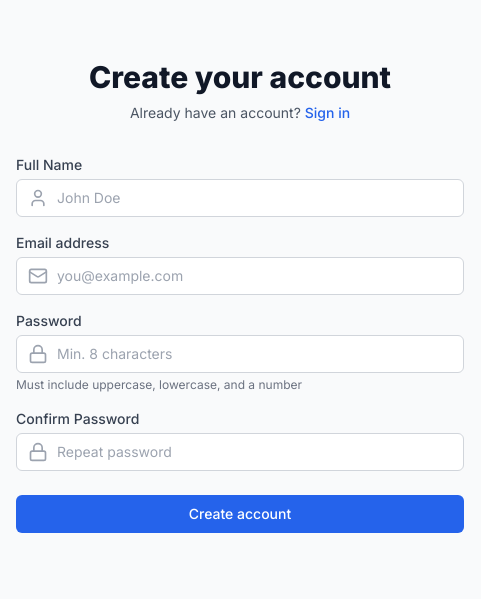
Test: RegisterPage › Password validation › clears validation error on next submit attempt
# First: trigger validation error
Type "short" into the password field labelled "Password". click: (240, 354)
box: [16, 335, 464, 373]
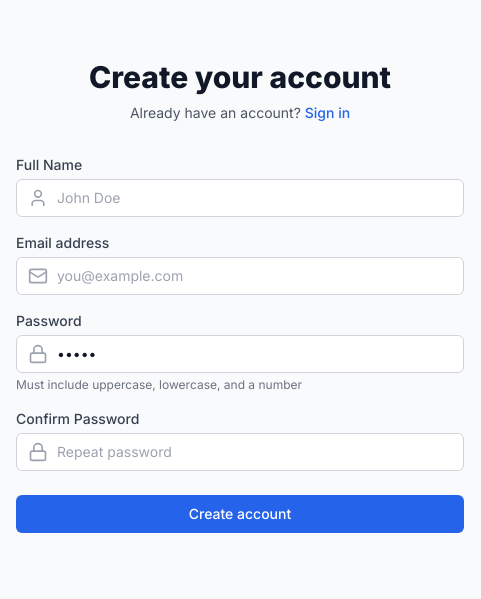
Type "short" into the password field labelled "Confirm Password". click: (240, 452)
box: [16, 433, 464, 471]
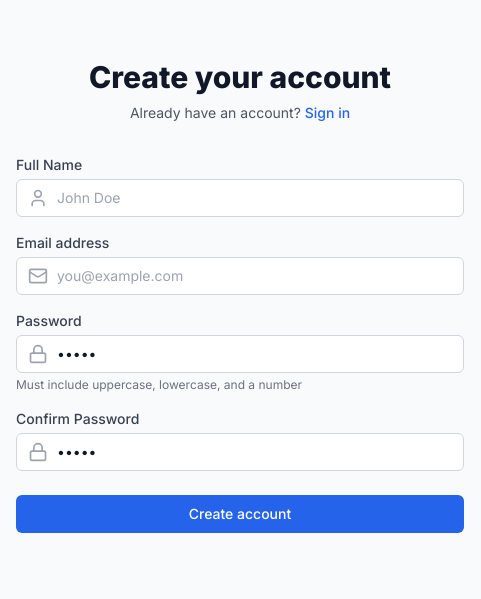
Submit the form from the button "Create account", box [16, 495, 464, 533]
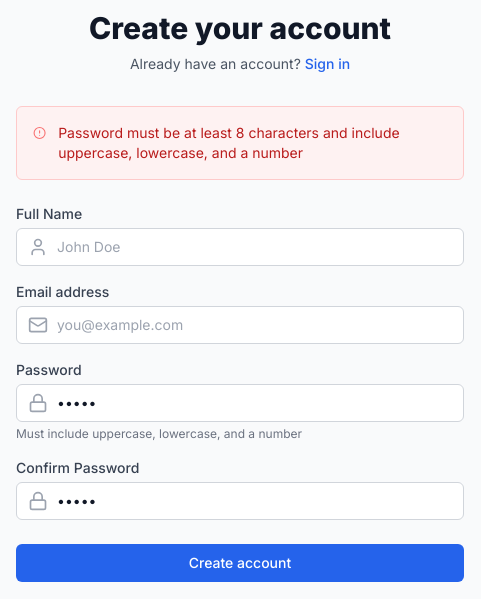
Check: the text "8 characters" is shown, box [58, 124, 400, 161]
# Second: fix password and submit again
Type "ValidPass1" into the password field labelled "Password". click: (240, 403)
box: [16, 384, 464, 422]
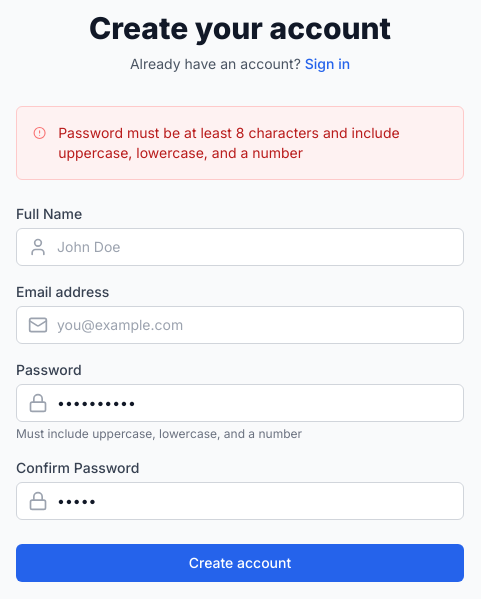
Type "ValidPass1" into the password field labelled "Confirm Password". click: (240, 501)
box: [16, 482, 464, 520]
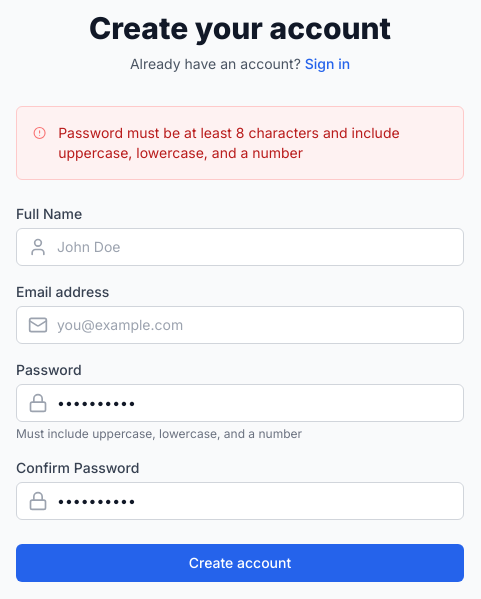
Submit the form from the button "Create account", box [16, 544, 464, 582]
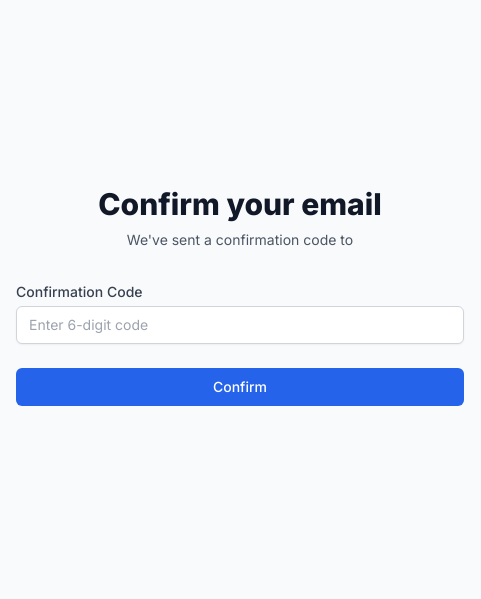
Check: the text "8 characters" is gone
